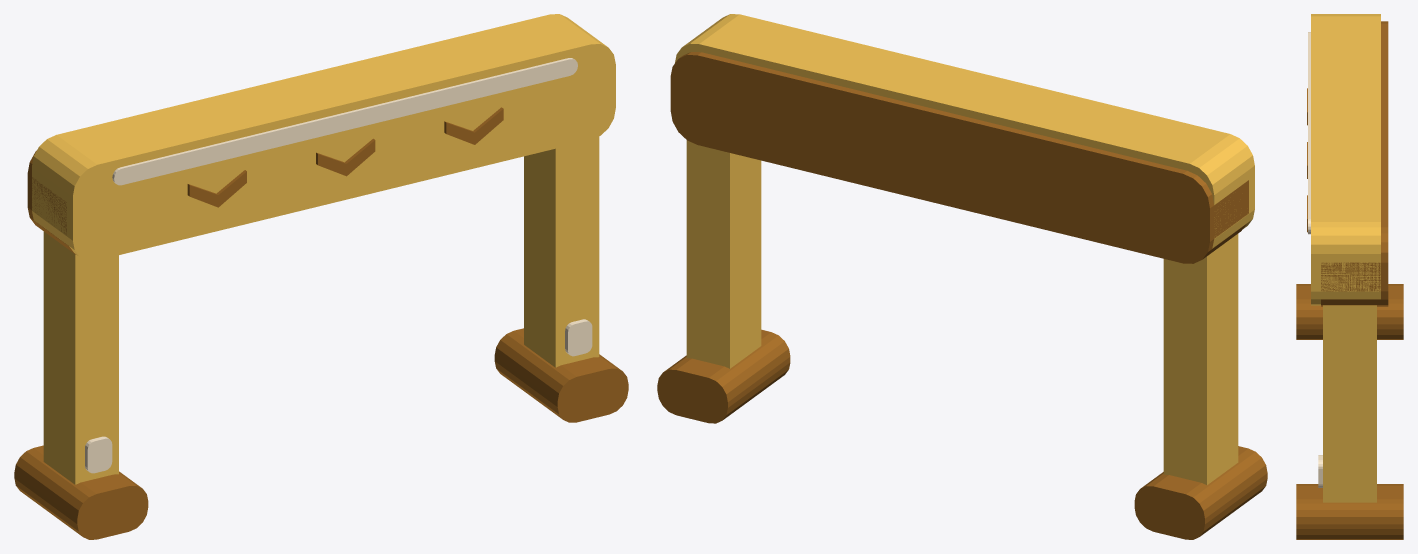
The model's file is slide.glb.
3 views of the same model, side by side, from view 1: azimuth 30°, elevation 25°; view 2: azimuth 150°, elevation 25°; view 3: azimuth 270°, elevation 25° (orthographic). The views are drawn at different scales.
Parts seen in each view (by area): view 1: slide_Amber, slide_AmberDark, slide_Cream; view 2: slide_AmberDark, slide_Amber; view 3: slide_Amber, slide_AmberDark, slide_Cream.
Boxes of the visible parts, <box> form: slide_Amber: <box>32,14,615,484</box>; slide_AmberDark: <box>14,107,628,539</box>; slide_Cream: <box>85,58,592,473</box>; slide_AmberDark: <box>657,52,1267,539</box>; slide_Amber: <box>675,14,1254,484</box>; slide_Amber: <box>1311,14,1380,502</box>; slide_AmberDark: <box>1296,21,1403,539</box>; slide_Cream: <box>1308,32,1322,487</box>.
Size of the model in its own units: 2.02 by 1.28 by 0.4.
